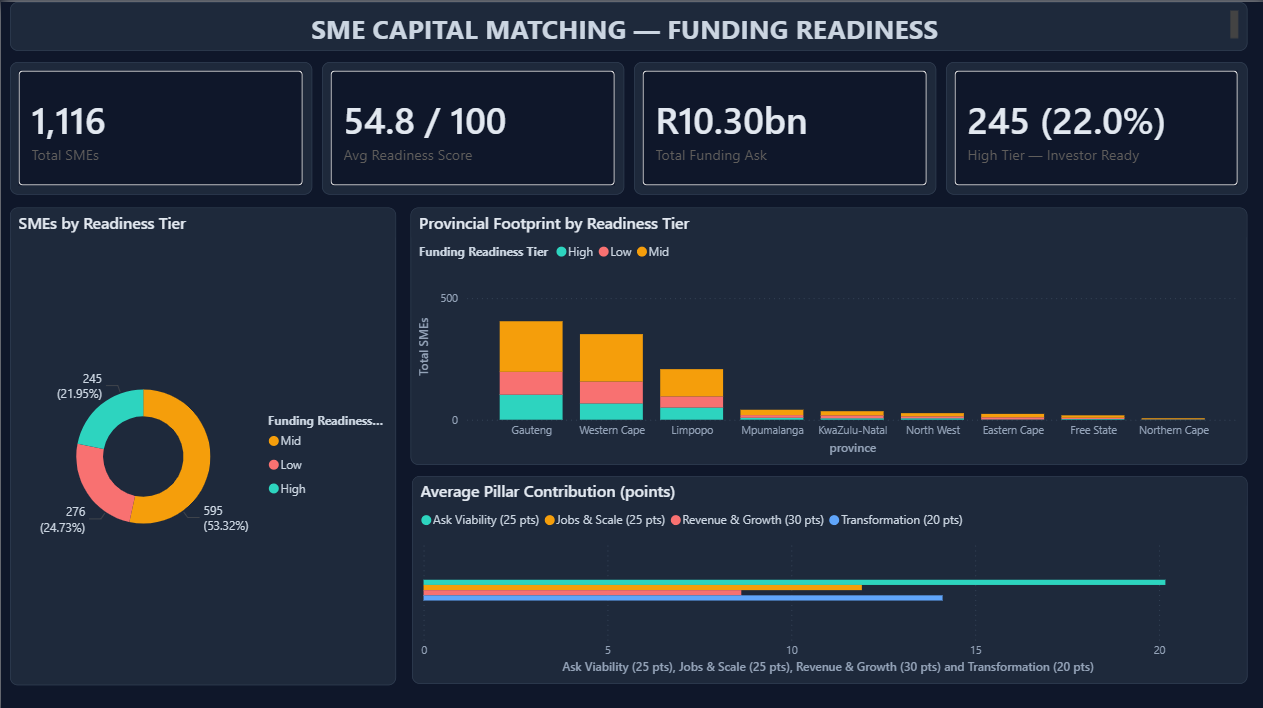

What the dashboard file says about the page in this screenshot:
{"tool":"powerbi","page":{"name":"Executive Summary","canvas":[1280,720],"ordinal":0},"visuals":[{"type":"textbox","box":[9.7,0,1249.8,49.6],"z":0},{"type":"cardVisual","fields":{"Data":["Clean Data.KPI Total SMEs"]},"box":[9.7,60.3,305.4,134.2],"z":1000},{"type":"cardVisual","fields":{"Data":["Clean Data.KPI Avg Score"]},"box":[324.9,60.3,305.4,134.2],"z":2000},{"type":"cardVisual","fields":{"Data":["Clean Data.KPI Total Ask"]},"box":[640,60.3,305.4,134.2],"z":3000},{"type":"cardVisual","fields":{"Data":["Clean Data.KPI High Tier"]},"box":[955.1,60.3,304.4,134.2],"z":4000},{"type":"donutChart","title":"SMEs by Readiness Tier","fields":{"Category":["Funding Readiness.readiness_tier"],"Y":["Funding Readiness.Total SMEs"]},"box":[9.7,207.2,390,482.4],"z":5000},{"type":"columnChart","title":"Provincial Footprint by Readiness Tier","fields":{"Category":["Funding Readiness.province"],"Y":["Funding Readiness.Total SMEs"],"Series":["Funding Readiness.readiness_tier"]},"box":[414.3,207.2,845.2,259.7],"z":6000},{"type":"clusteredBarChart","title":"Average Pillar Contribution (points)","fields":{"Y":["Avg(Funding Readiness.pts_ask_viability)","Avg(Funding Readiness.pts_jobs_scale)","Avg(Funding Readiness.pts_revenue_growth)","Avg(Funding Readiness.pts_transformation)"]},"box":[415.3,479.5,844.3,210.1],"z":7000}]}

Visuals, with their boxes in screenshot pixels (x1, y1, x2, y2), scaled from the page's 1280x720 canvas onto the 1263x708 screenshot:
textbox: left=10, top=0, right=1243, bottom=49
cardVisual - Clean Data.KPI Total SMEs: left=10, top=59, right=311, bottom=191
cardVisual - Clean Data.KPI Avg Score: left=321, top=59, right=622, bottom=191
cardVisual - Clean Data.KPI Total Ask: left=632, top=59, right=933, bottom=191
cardVisual - Clean Data.KPI High Tier: left=942, top=59, right=1243, bottom=191
"SMEs by Readiness Tier" donutChart: left=10, top=204, right=394, bottom=678
"Provincial Footprint by Readiness Tier" columnChart: left=409, top=204, right=1243, bottom=459
"Average Pillar Contribution (points)" clusteredBarChart: left=410, top=472, right=1243, bottom=678
